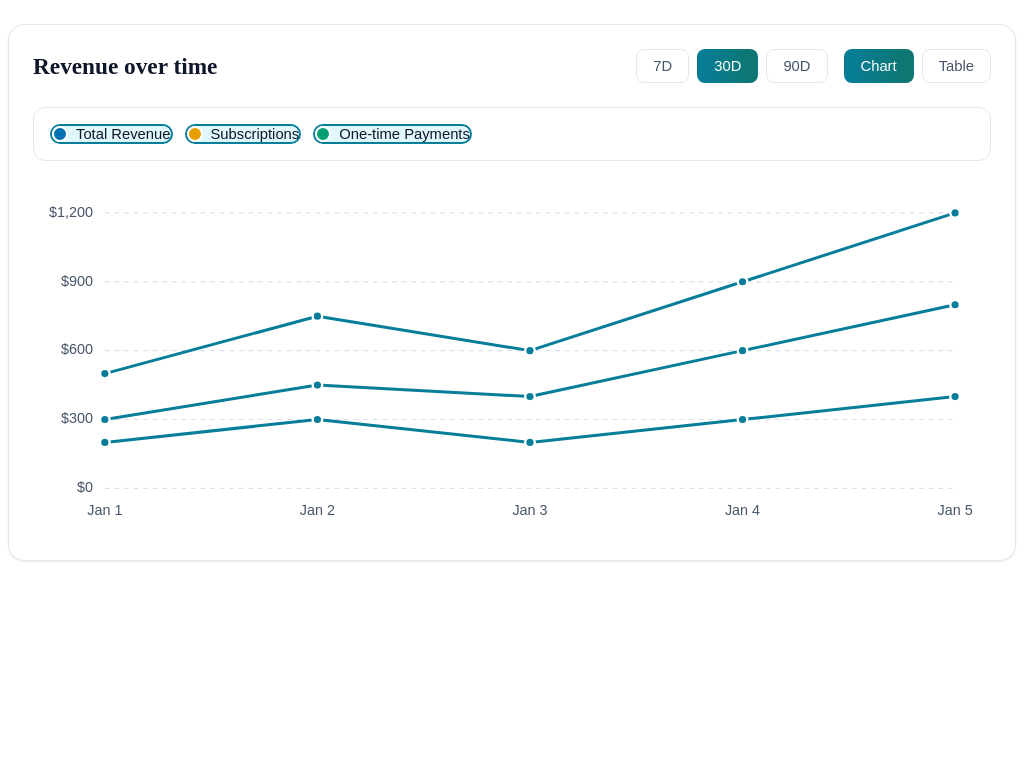
Scenario: RevenueChart — Multi-Series Chart Behavior › handles hidden series in chart visualization
# Hide a series
Step 1. Click the button with aria-label "total revenue series, visible" → point(111, 134), box [50,124,172,144]
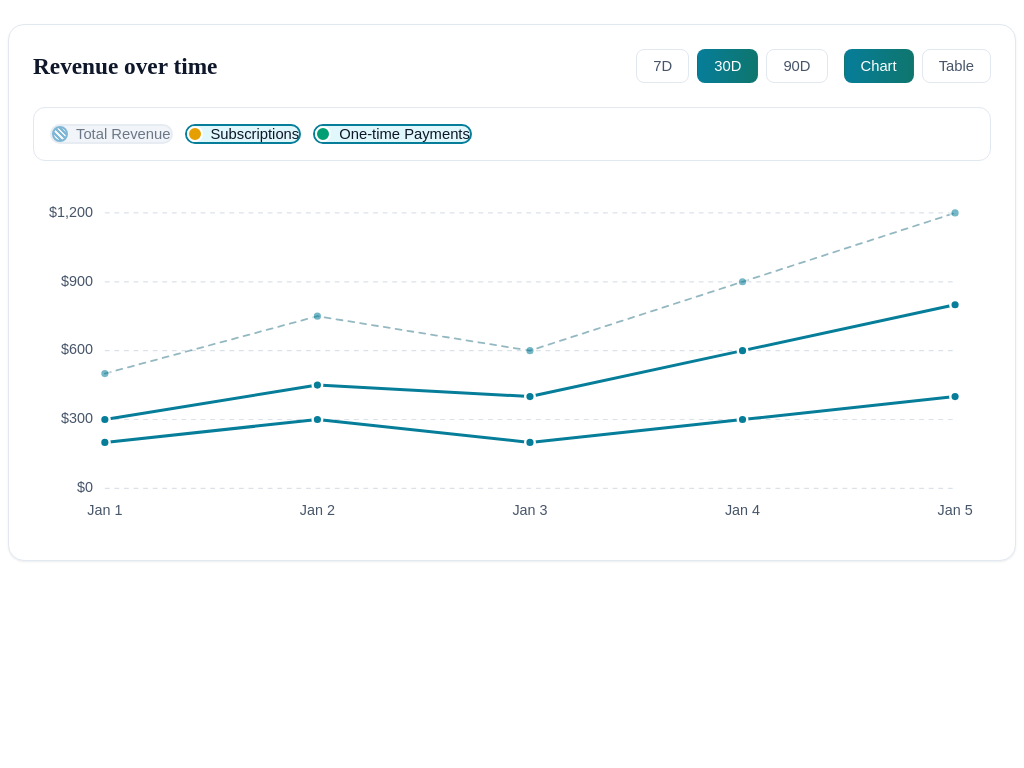
expect the button with aria-label "total revenue series, hidden" is shown: met, box [50,124,172,144]
